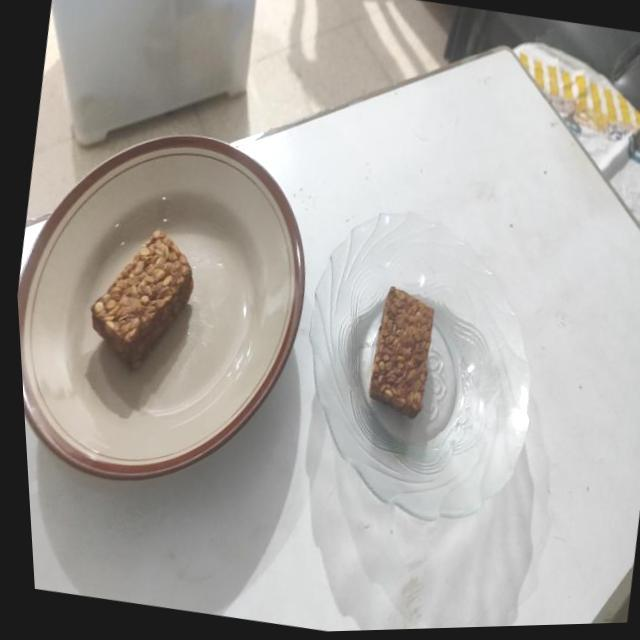tempe_goreng: (91, 230, 193, 368), (369, 286, 433, 418)
